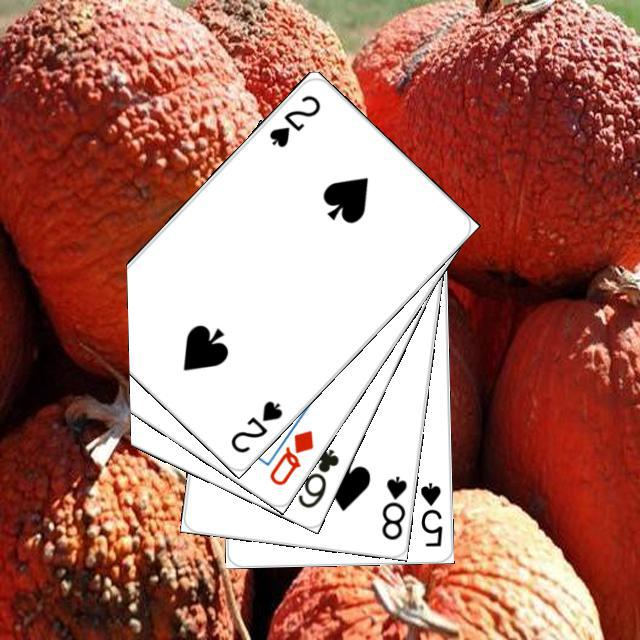2s: (225, 395, 285, 455), (264, 89, 323, 150)
5s: (416, 477, 444, 548)
6c: (292, 443, 341, 510)
8s: (376, 471, 409, 542)
Qd: (264, 425, 316, 488)
